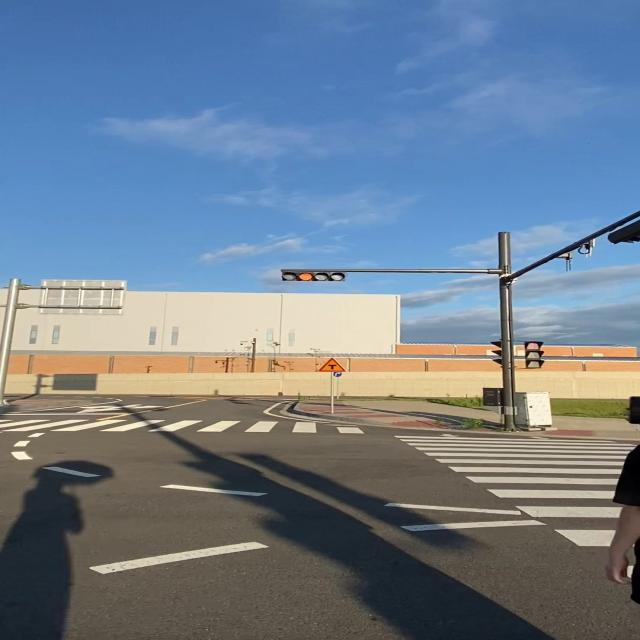yellow_light: (282, 272, 346, 281)
